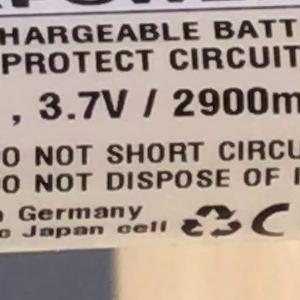keyword: (29, 79, 135, 130)
